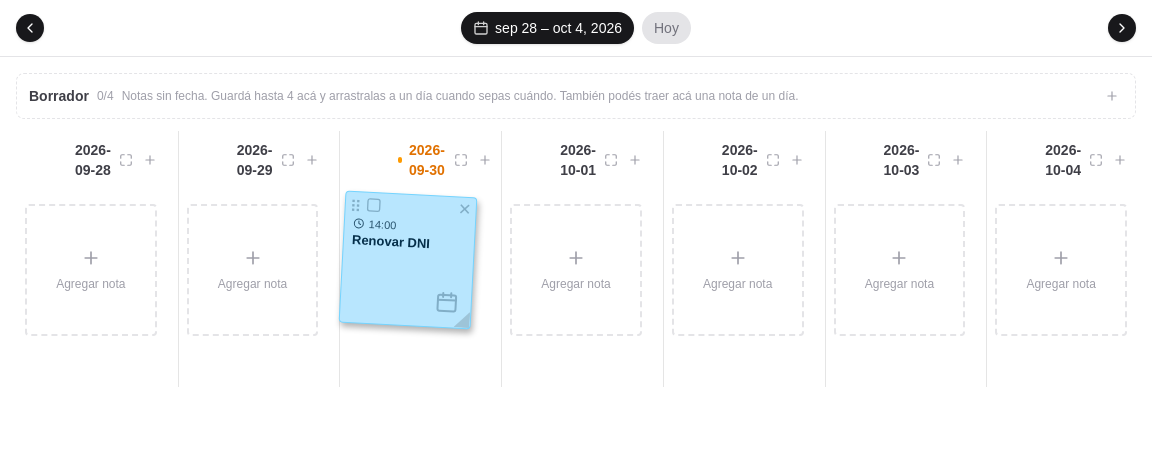
Scenario: Board › showing changes before the server answers › falls back to a generic message for an unknown error
Click the button named "Marcar como hecha" at [374, 205], box [366, 197, 382, 214]
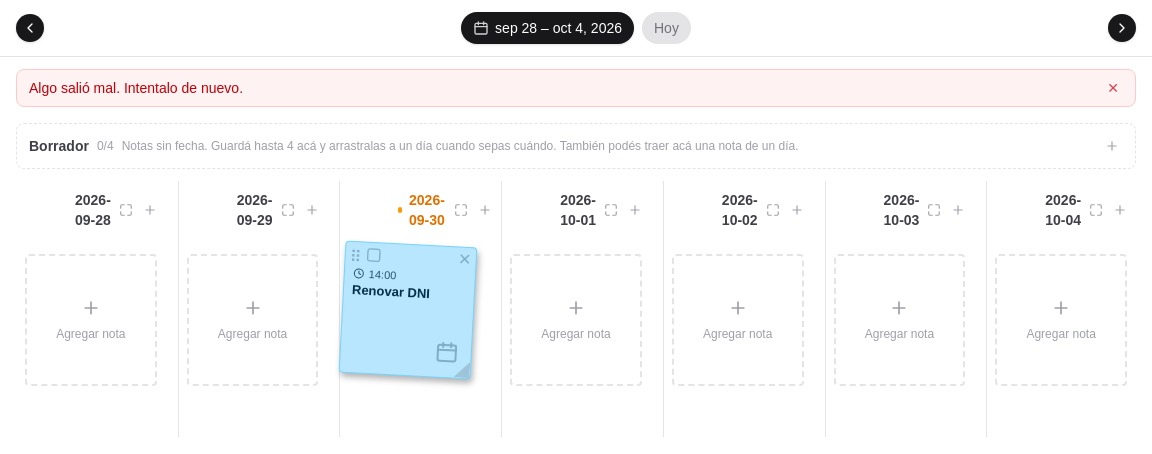
Expected: the button named "Marcar como hecha" is shown, [366, 247, 382, 264]
Result: the message shows "Algo salió mal. Intentalo de nuevo." at [29, 80, 243, 96]
Click the button named "Cerrar aviso" at [1113, 88], box [1103, 78, 1123, 98]
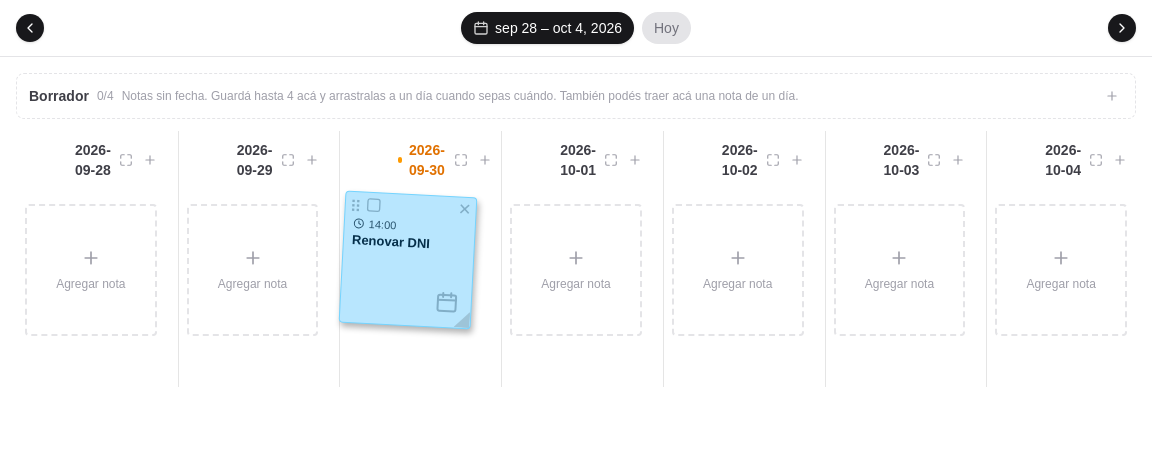
Result: the message "Algo salió mal. Intentalo de nuevo. ✕" is gone
